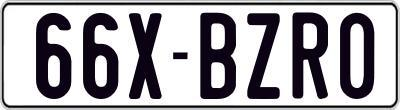0: (339, 13, 379, 102)
6: (81, 12, 118, 101), (35, 10, 71, 101)
B: (197, 11, 238, 97)
R: (292, 10, 332, 97)
X: (129, 13, 168, 104)
Z: (245, 12, 279, 100)
